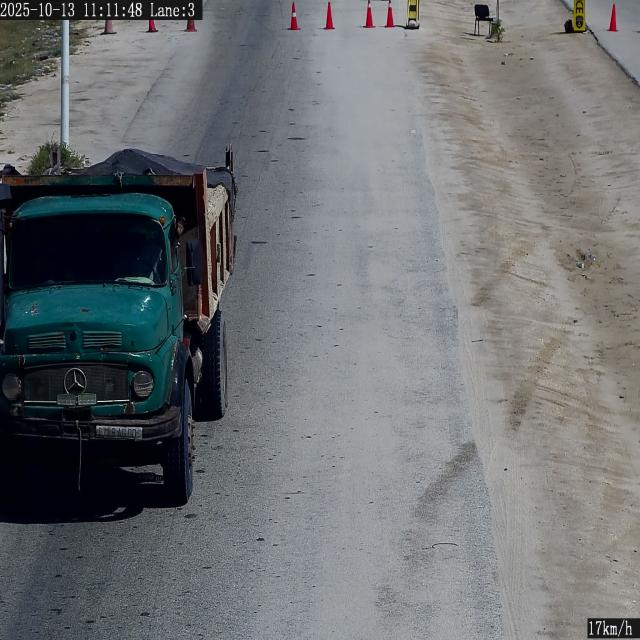BUS: (96, 426, 142, 439)
